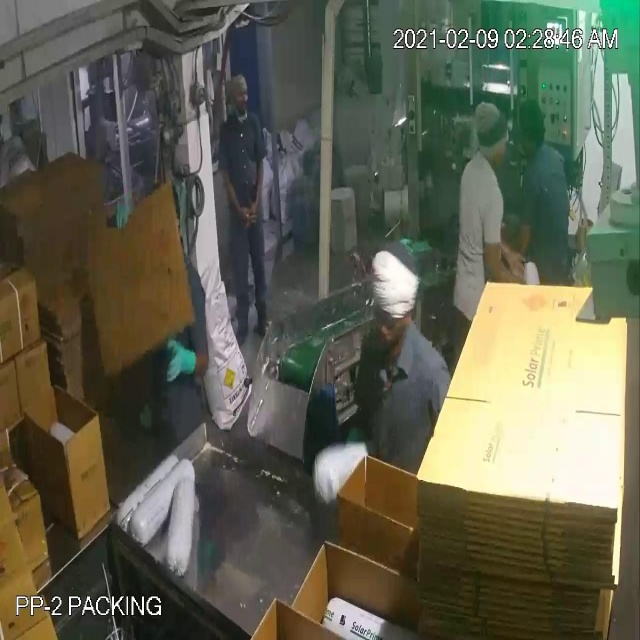Guantes: (161, 331, 210, 398)
Sin_guantes: (486, 228, 531, 297), (220, 167, 252, 232), (248, 145, 267, 230)
